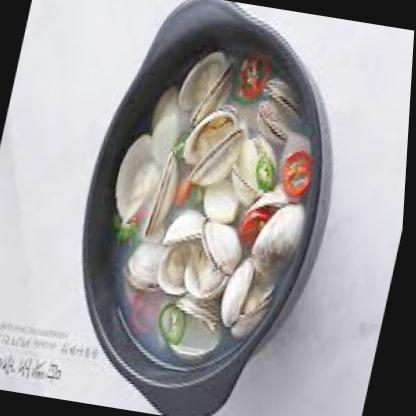shellfish soup: (71, 2, 352, 383)
